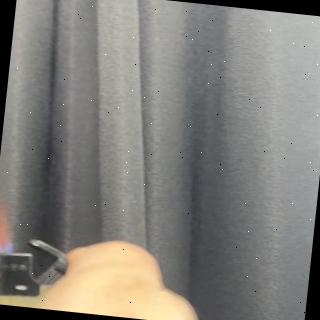fire: (0, 189, 21, 255)
